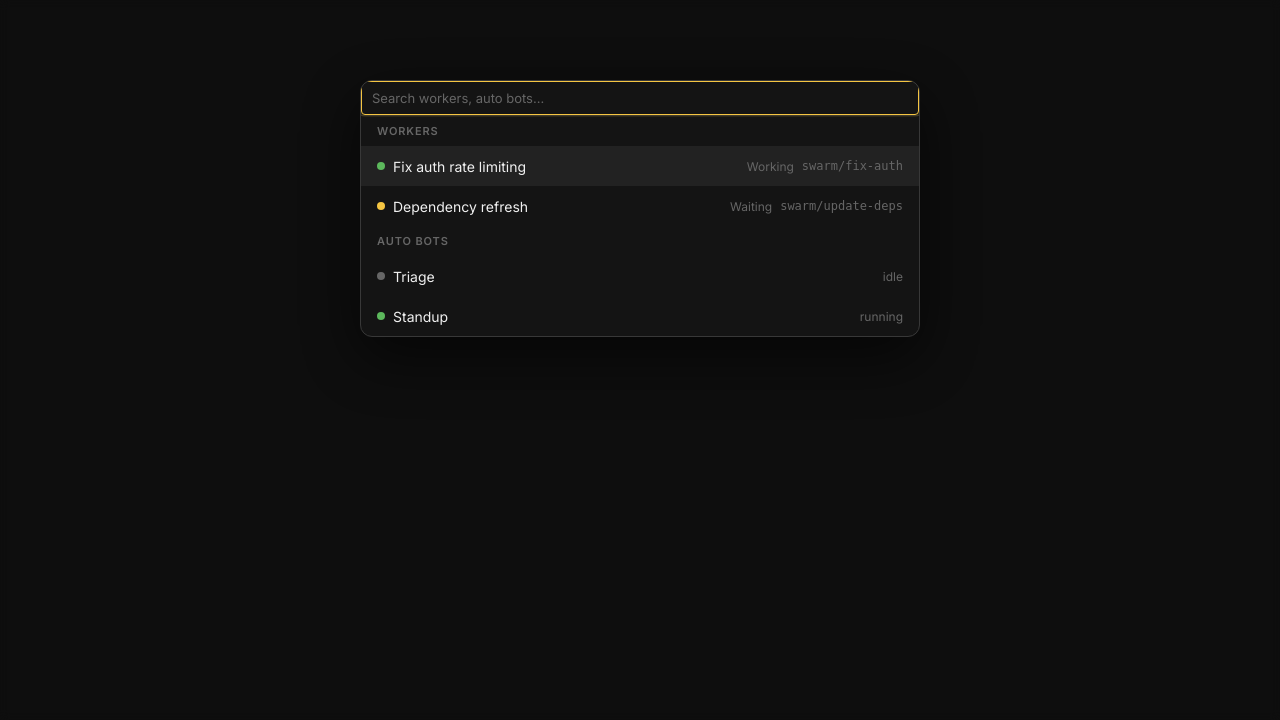
CommandPalette › shows no results message when nothing matches
The width and height of the screenshot is (1280, 720).
Type "zzznomatch" into the field with test id "command-palette-input" at (640, 98), box left=361, top=81, right=919, bottom=115
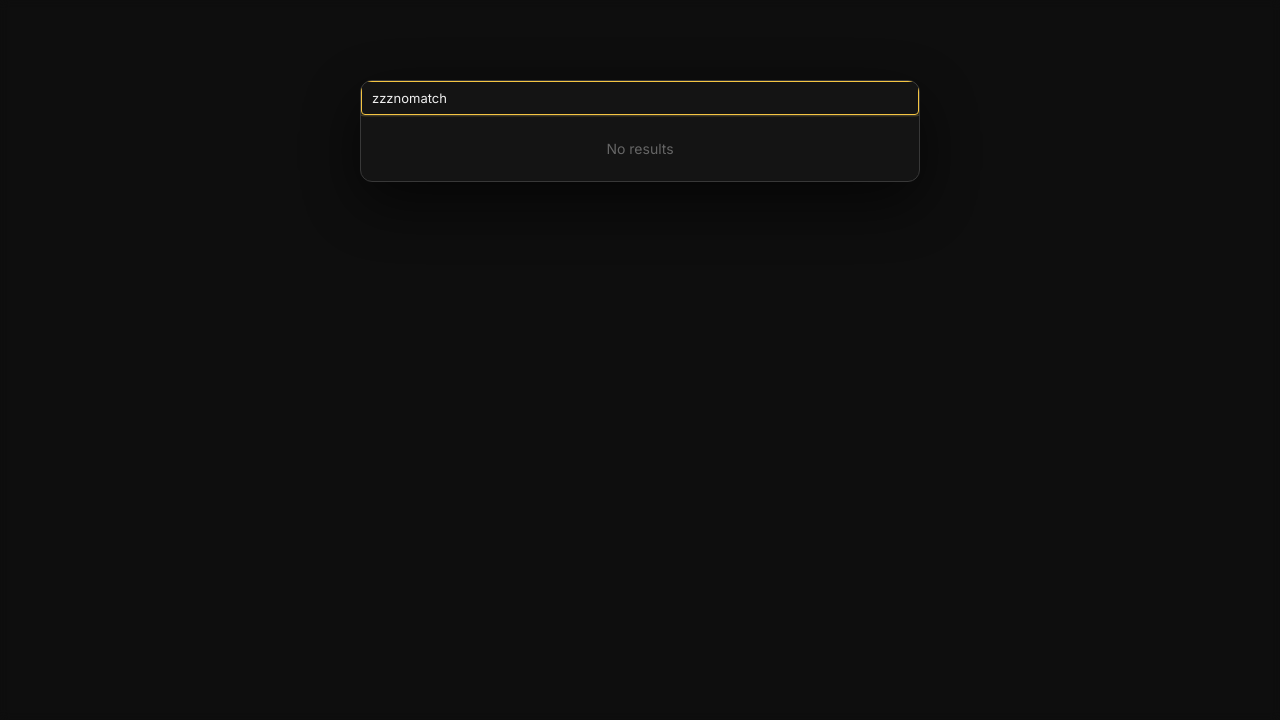
Check: the text "No results" is shown, box left=606, top=140, right=674, bottom=157
